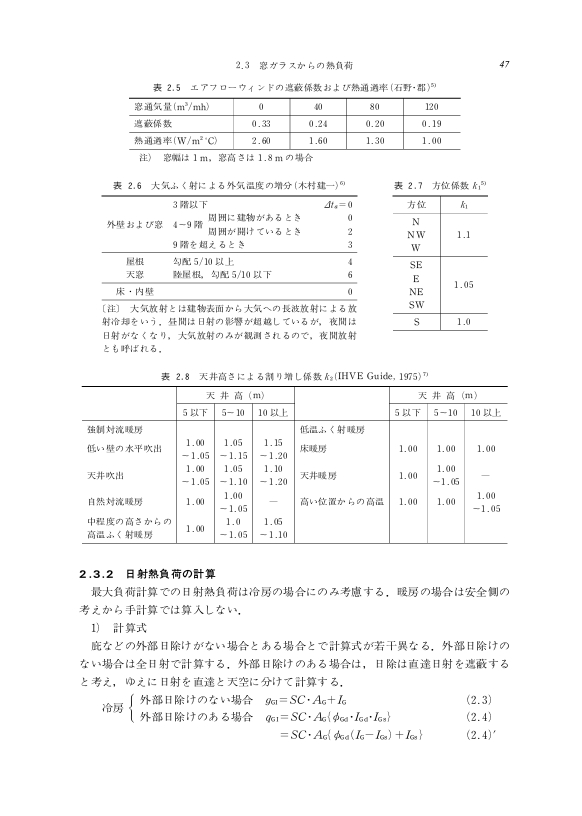table: (81, 385, 507, 544), (101, 195, 356, 301), (128, 97, 460, 150), (392, 195, 487, 331)
